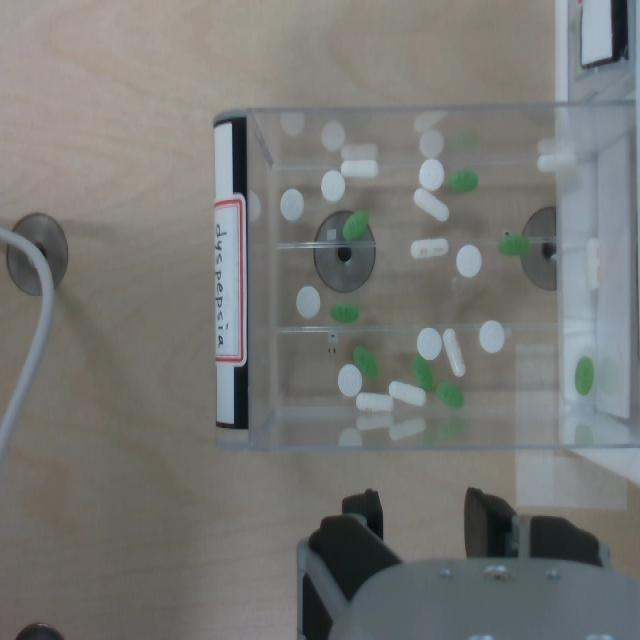magmil_tab: (478, 320, 505, 353), (456, 244, 481, 277), (296, 285, 320, 319), (419, 159, 444, 191), (416, 328, 441, 360), (280, 188, 303, 221), (338, 364, 361, 396), (321, 171, 345, 201)
medilacsenteric_tab: (413, 188, 448, 221), (443, 328, 465, 376), (389, 381, 426, 405), (410, 237, 448, 259), (586, 237, 601, 289), (537, 152, 575, 172), (356, 392, 393, 411), (340, 160, 378, 177)
nexilen_tab: (353, 345, 377, 377), (413, 355, 434, 391), (499, 232, 530, 256), (575, 356, 594, 395), (343, 211, 368, 240), (449, 169, 478, 192), (436, 383, 463, 407), (330, 301, 359, 323)
